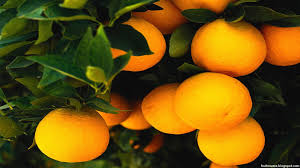orange: (173, 69, 253, 130), (184, 17, 267, 74), (33, 101, 109, 162), (94, 18, 168, 71), (192, 116, 267, 163)
